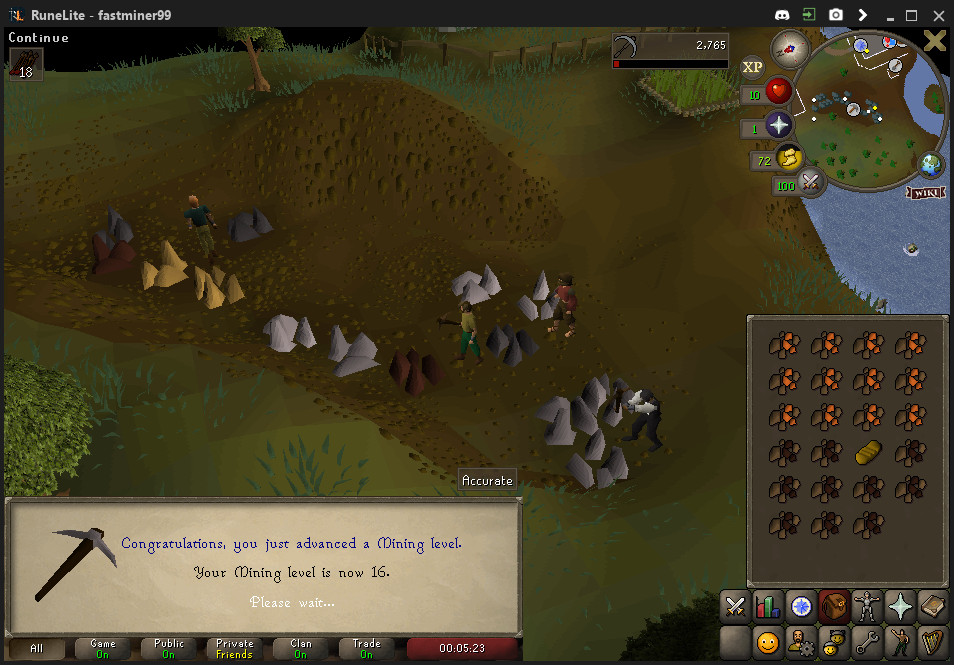depleted: (223, 205, 282, 245), (484, 326, 541, 364), (88, 207, 143, 245)
ore: (388, 340, 444, 394), (92, 238, 136, 275)
